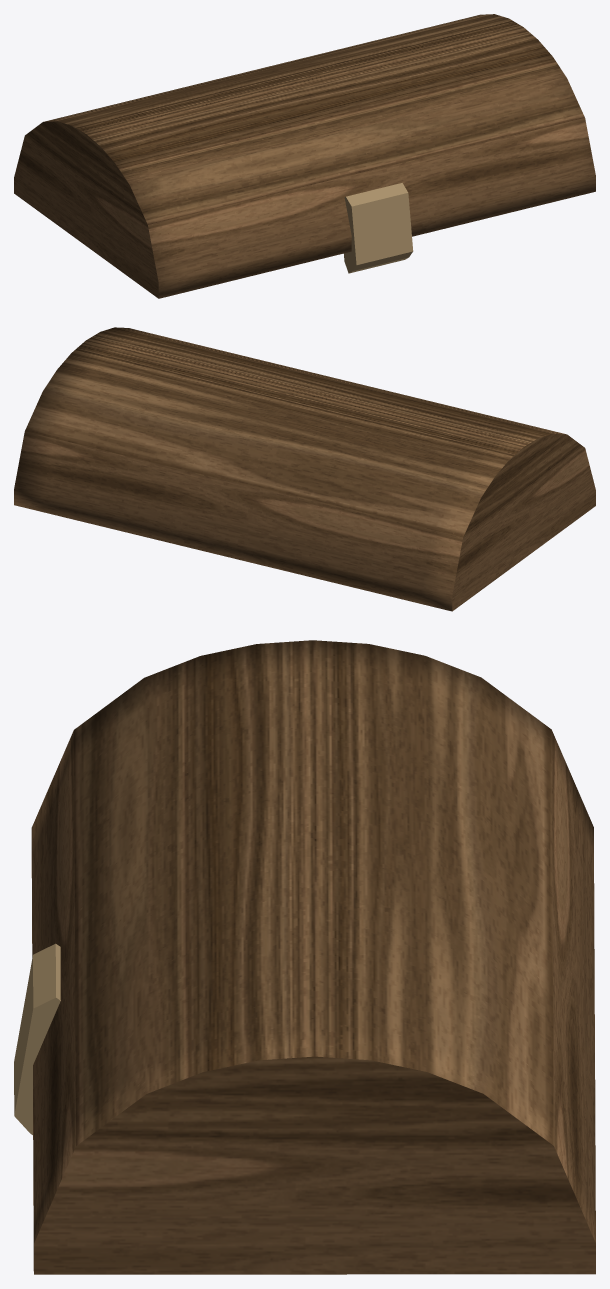
Rendered from ChestTop2.obj.
The picture shows the model from 3 angles, top to bottom: view 1: azimuth 30°, elevation 25°; view 2: azimuth 150°, elevation 25°; view 3: azimuth 270°, elevation 25°; orthographic projection. The views are drawn at different scales.
Visible parts, largest first — view 1: chest_top.000_Cube.389; view 2: chest_top.000_Cube.389; view 3: chest_top.000_Cube.389.
Boxes of the visible parts, <box> form: chest_top.000_Cube.389: <box>14,14,595,298</box>; chest_top.000_Cube.389: <box>14,327,595,611</box>; chest_top.000_Cube.389: <box>14,640,595,1274</box>.
Bounding box in the file's own units: 2.42 × 0.7173 × 1.43.
